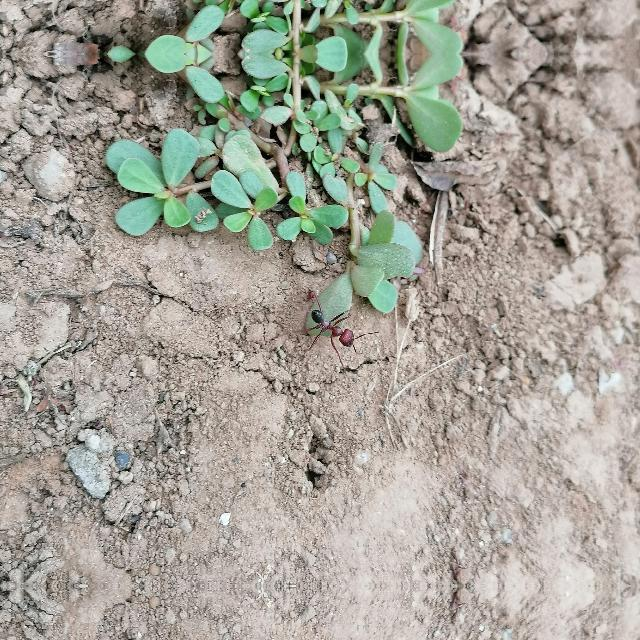Cataglyphis: (305, 300, 367, 352)
